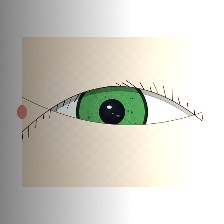hemorrhage_spot: (84, 101, 143, 149)
